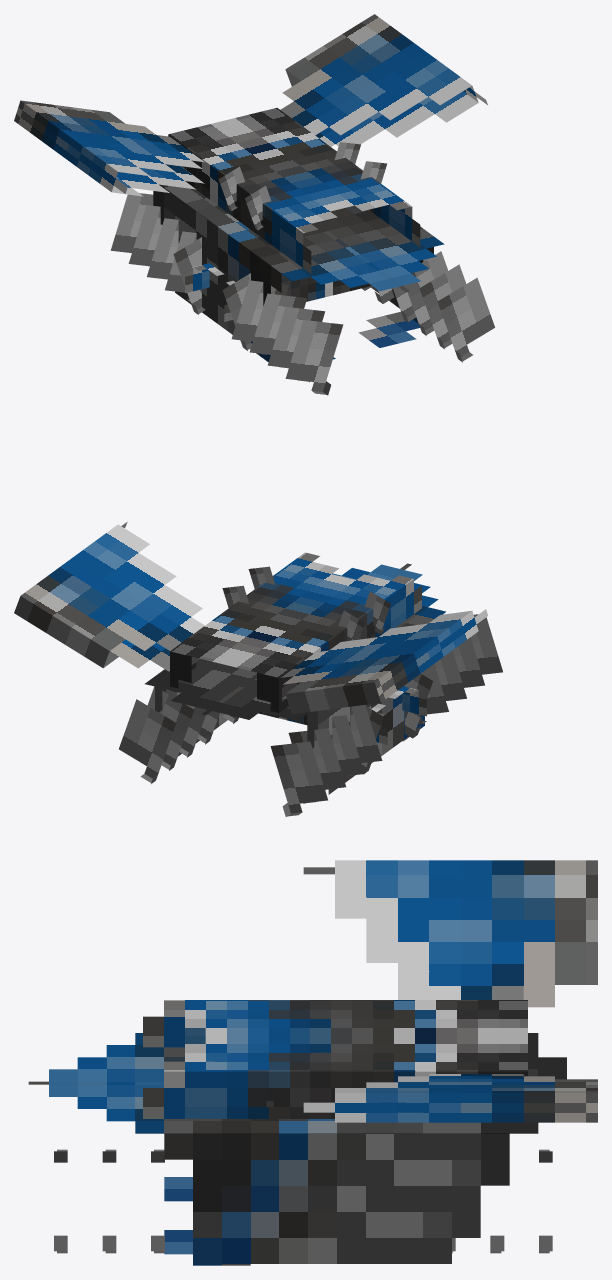
File: solar_gen.obj
The picture shows the model from 3 angles, top to bottom: view 1: azimuth 30°, elevation 25°; view 2: azimuth 150°, elevation 25°; view 3: azimuth 270°, elevation 25°; orthographic projection. The views are drawn at different scales.
Visible parts, largest first — view 1: solar; view 2: solar; view 3: solar.
Boxes of the visible parts, x1,y1,x2,y2 form: solar: (14,14,494,395); solar: (14,522,502,816); solar: (28,860,597,1265).
Size of the model in its own units: 1.03 by 0.477 by 1.05.
